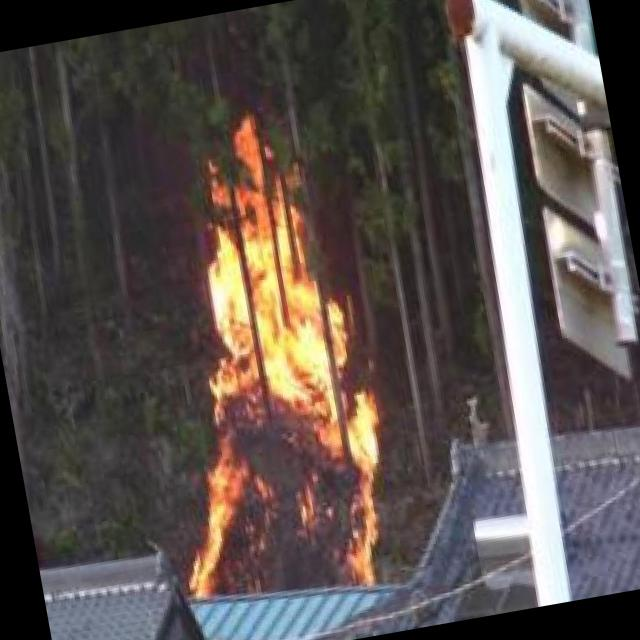Fire: (126, 108, 400, 618)
